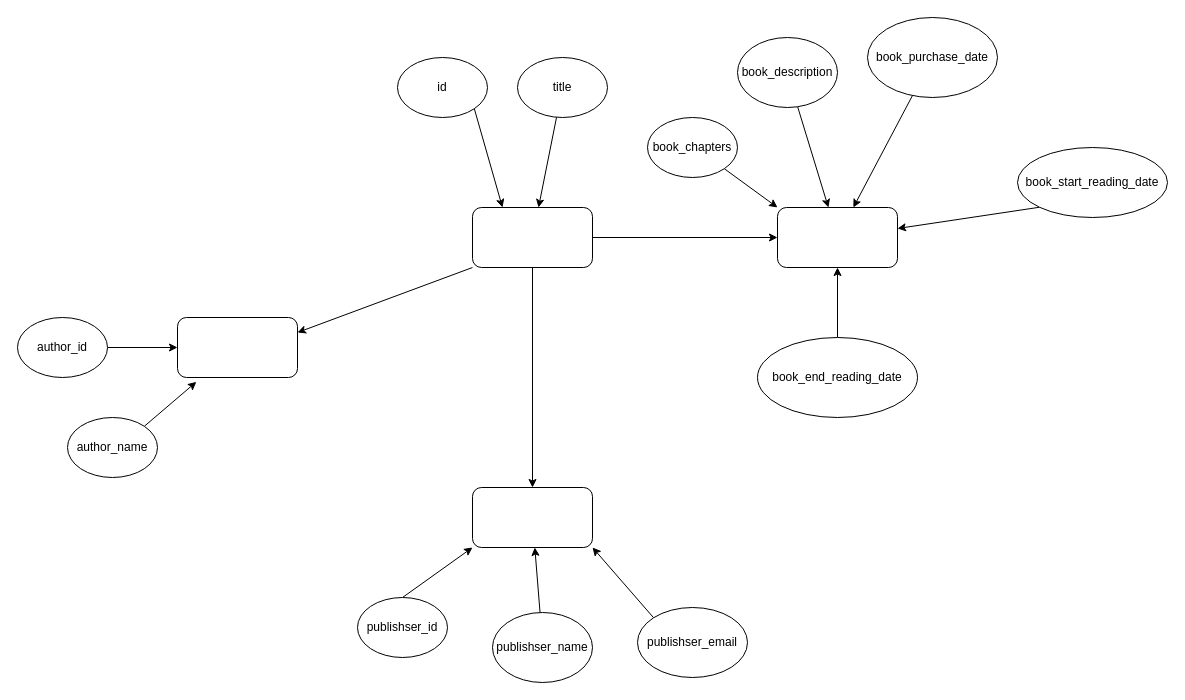
The diagram is 1185 pixels wide and 700 high, and some of its shapes have lost their labels. The centre of each missing label's shape, as x and y in pixels:
author: the point at 237,347
book: the point at 532,237
book_details: the point at 837,237
publisher: the point at 532,517
